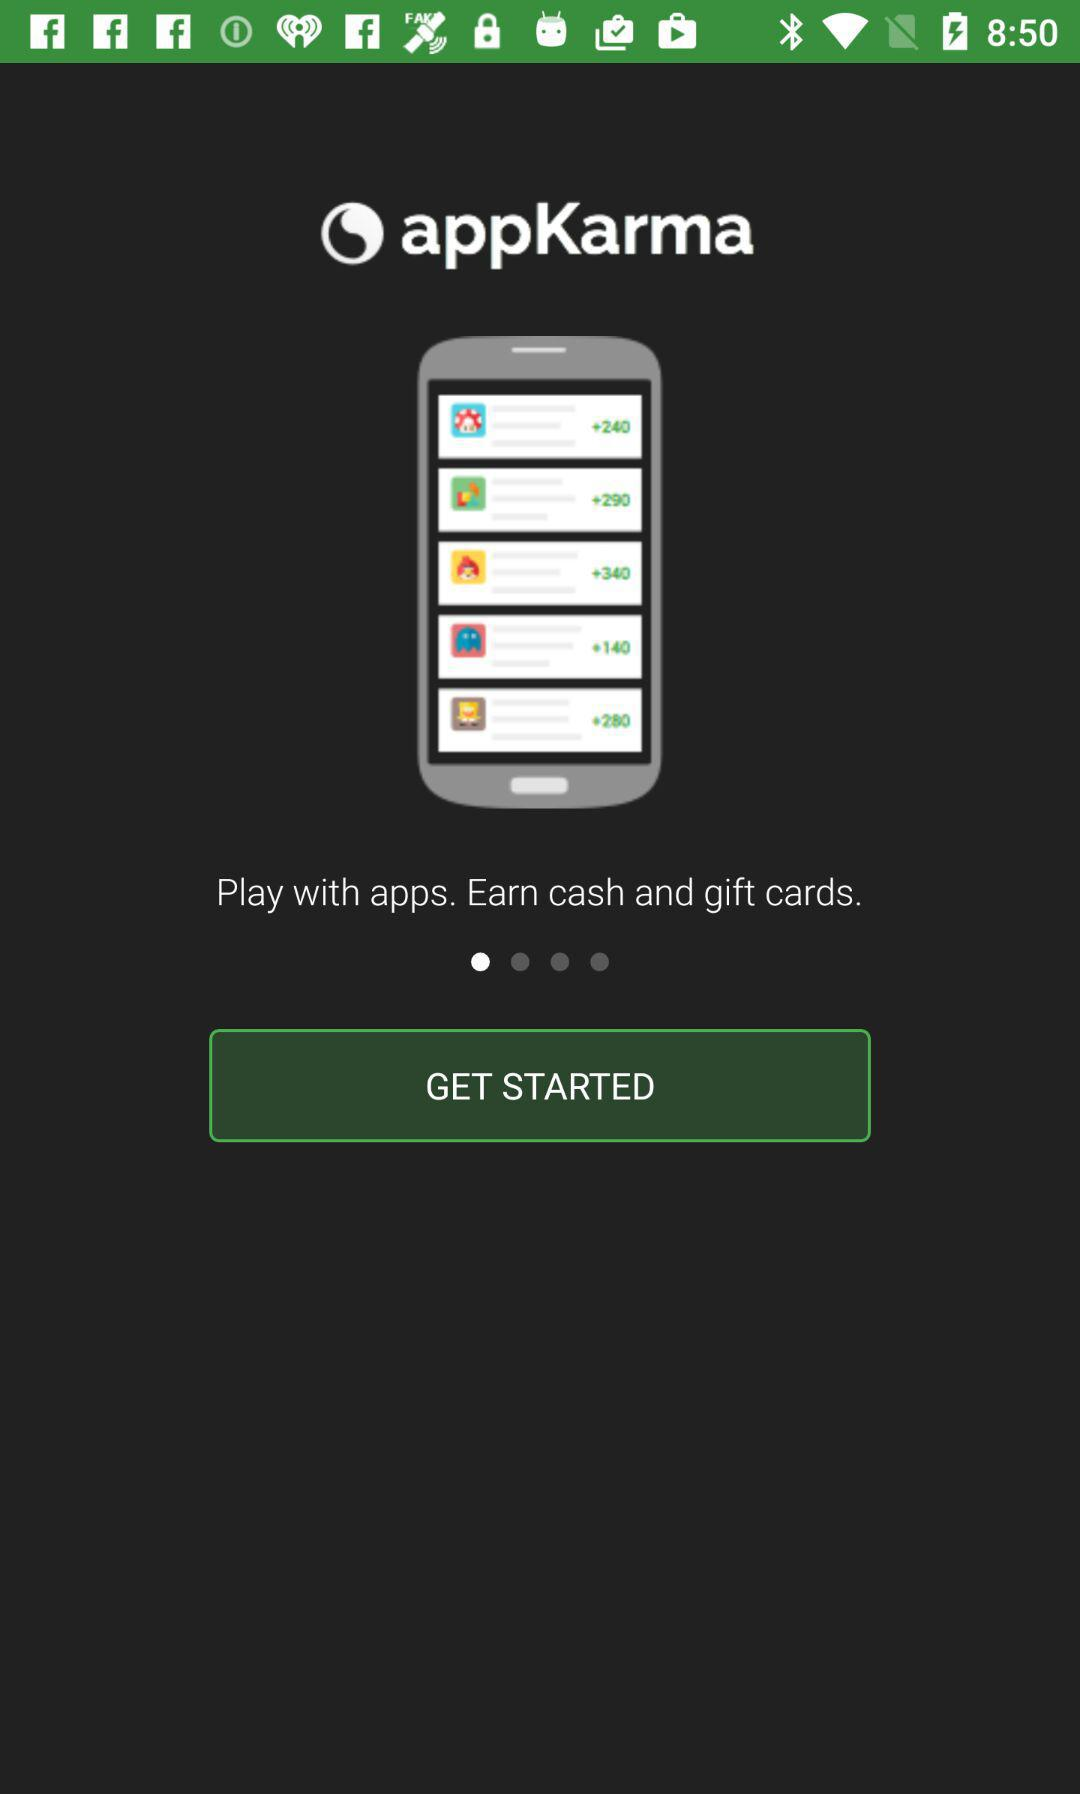Image: (416, 334, 664, 809), (320, 201, 756, 270)
PageIndicator: (470, 951, 611, 974)
Text: (218, 875, 862, 916)
TextButton: (209, 1029, 872, 1143)
UpperTaskBar: (1, 1, 1080, 64)
